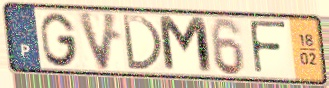6: (208, 15, 247, 78)
D: (119, 13, 165, 73)
F: (246, 18, 289, 78)
G: (38, 10, 81, 68)
M: (155, 13, 216, 76)
V: (75, 9, 121, 73)
